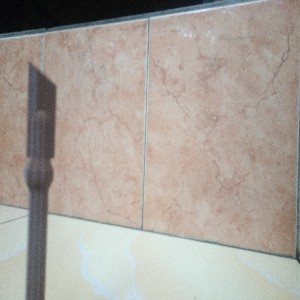cutter: (22, 61, 58, 300)
